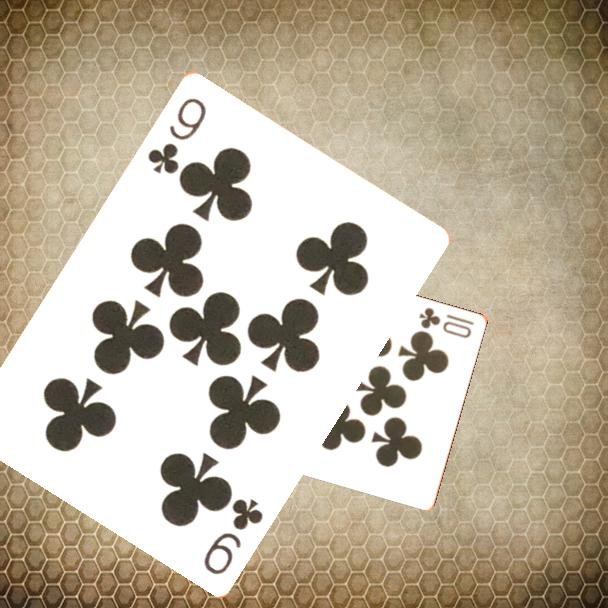c09: (143, 93, 210, 177), (199, 494, 266, 578)
c10: (415, 304, 477, 341)
